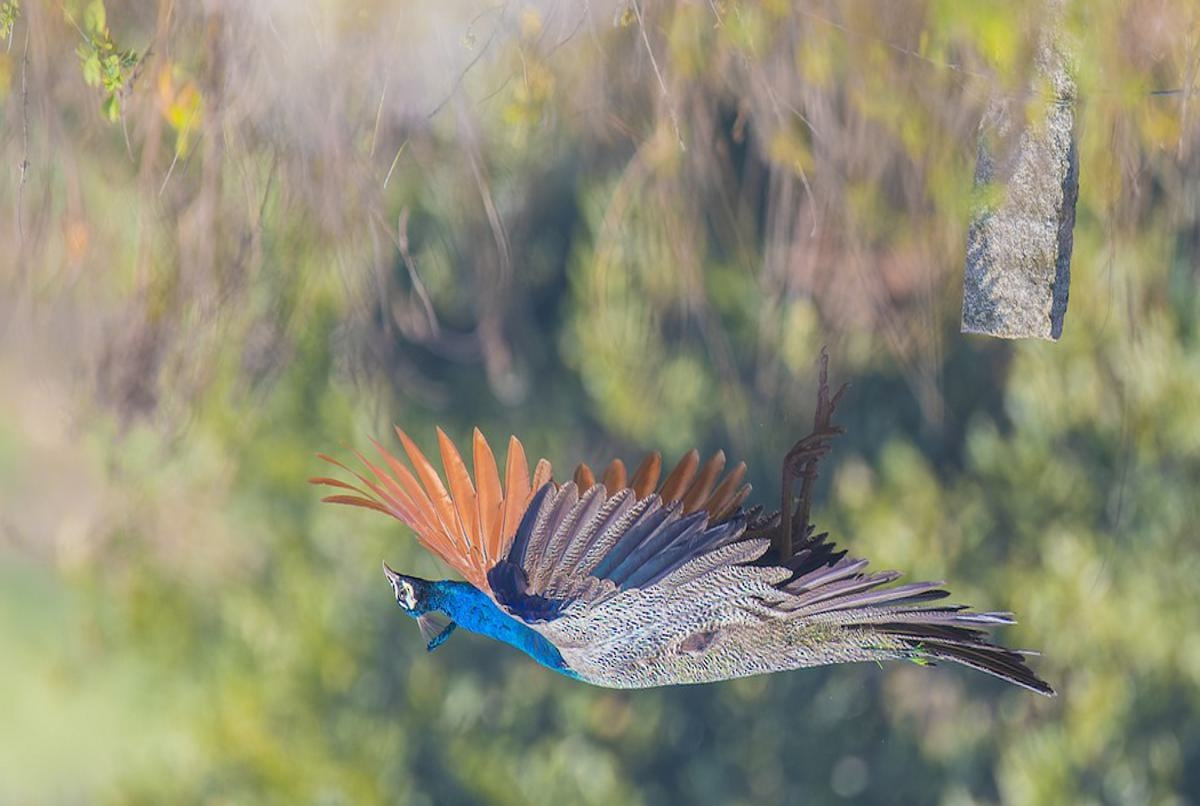peacock: (405, 457, 940, 720)
